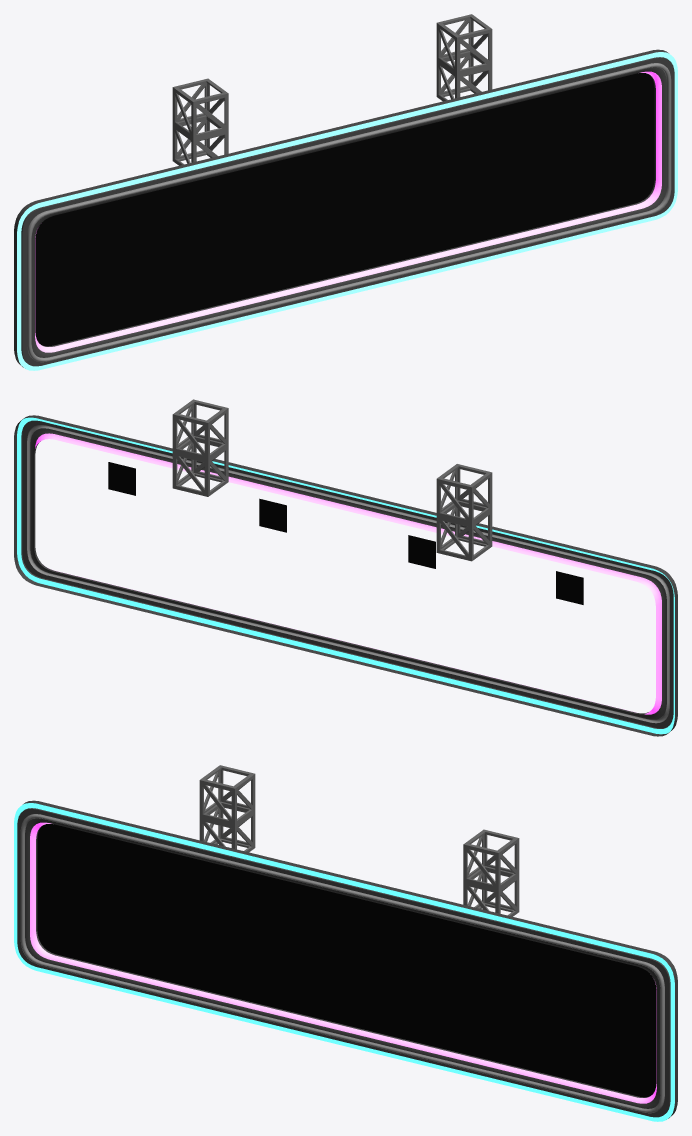
The model's file is PH_mesh_Scoreboard.fbx.
3 renders of one model, top to bottom at view 1: azimuth 30°, elevation 25°; view 2: azimuth 150°, elevation 25°; view 3: azimuth 330°, elevation 25°, orthographic.
Parts seen in each view (by area): view 1: mesh_Scoreboard; view 2: mesh_Scoreboard; view 3: mesh_Scoreboard.
Boxes of the visible parts, x1,y1,x2,y2 form: mesh_Scoreboard: [14, 14, 677, 370]; mesh_Scoreboard: [14, 399, 677, 736]; mesh_Scoreboard: [14, 765, 677, 1121].
Bounding box in the file's own units: 1624 × 531 × 119.
